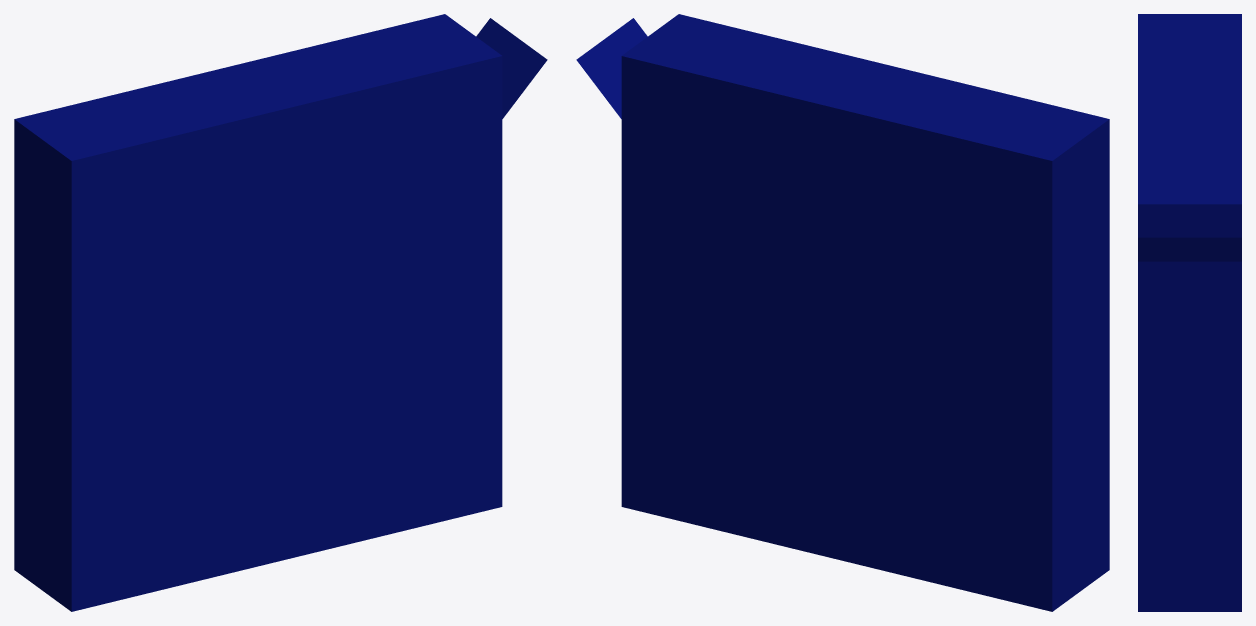
The model's file is Порошок2Unity.fbx.
The picture shows the model from 3 angles, left to right: view 1: azimuth 30°, elevation 25°; view 2: azimuth 150°, elevation 25°; view 3: azimuth 270°, elevation 25°; orthographic projection. The views are drawn at different scales.
Parts seen in each view (by area): view 1: Cube; view 2: Cube; view 3: Cube.
Boxes of the visible parts, left/top/right/bottom form: Cube: left=14, top=14, right=547, bottom=611; Cube: left=576, top=14, right=1109, bottom=611; Cube: left=1138, top=14, right=1241, bottom=611.
Size of the model in its own units: 221 by 200 by 46.1.
